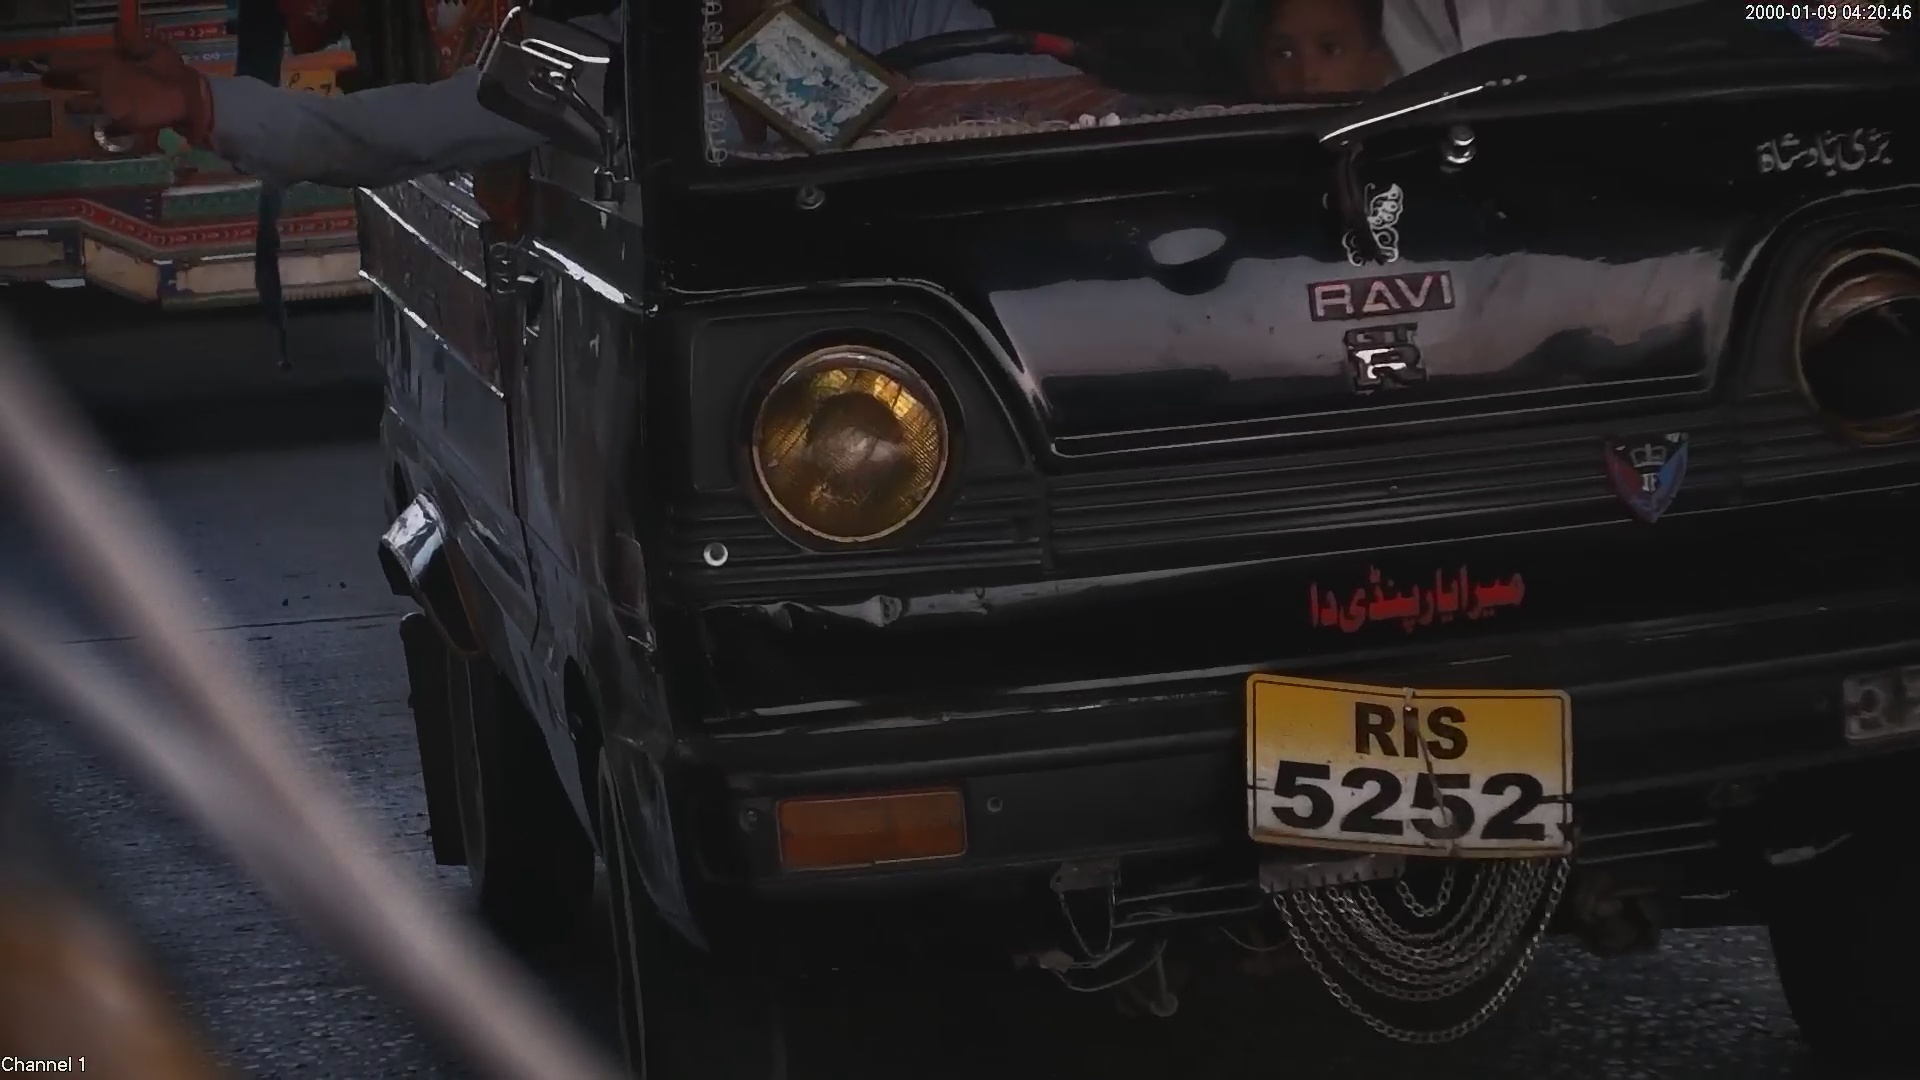Number_Plate: (1226, 655, 1597, 859)
Undefined: (1250, 866, 1576, 1046), (1317, 188, 1460, 390), (1278, 562, 1539, 633), (1587, 407, 1704, 525), (1745, 114, 1906, 186)
